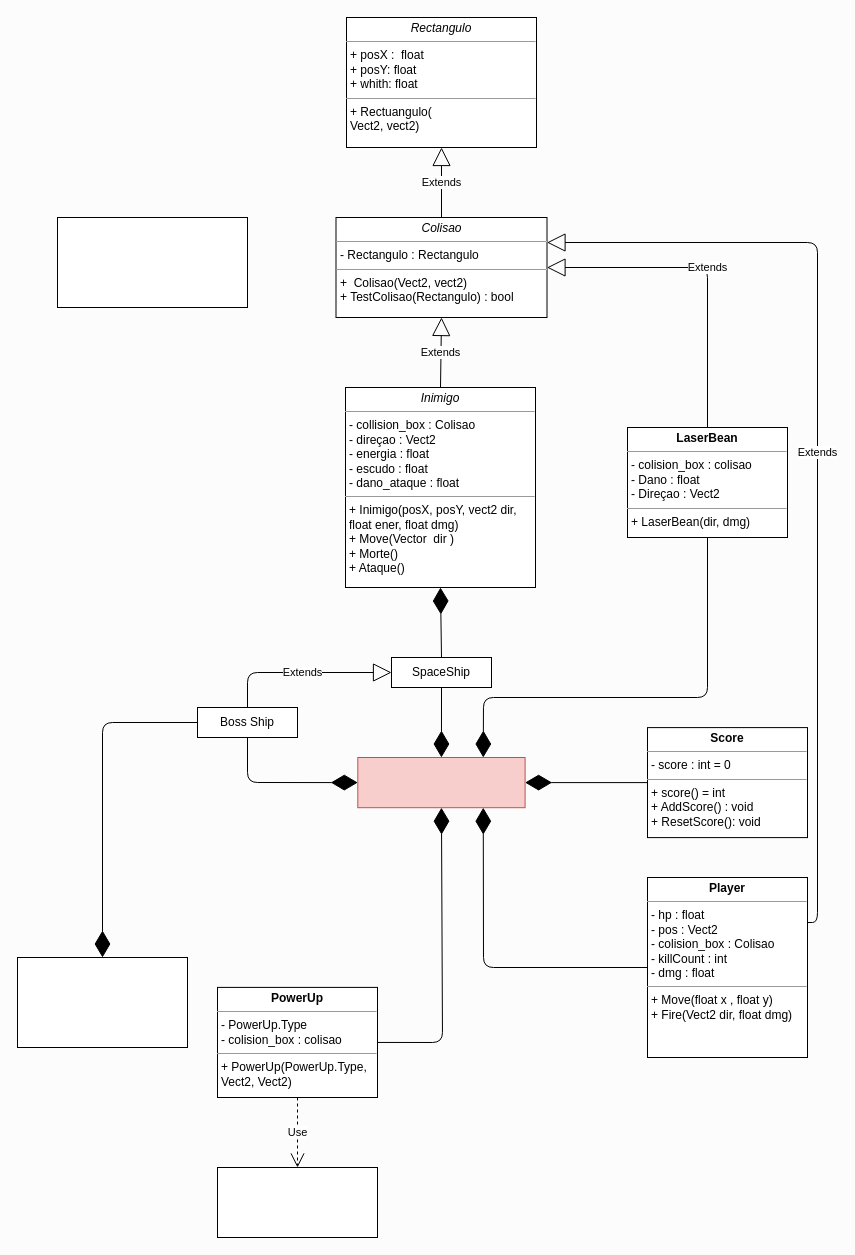
This 855x1255 diagram has some shape labels left out. The shapes that lost their labels are listed below. From the top down, each one's box as (x1, y1, x2, y2) in pixels, then its label:
(56, 216, 248, 308): Vect2 + X : float + Y : float + Vect2(float x, float y)
(357, 756, 525, 808): Game
(16, 956, 188, 1048): IA - playerPos : vect2 + CalculateMove() : Vect2 dir - GetPlayerPos(): void
(216, 1166, 378, 1238): PowerUp.Type + powerUpTipe1, powerUpTipe2
